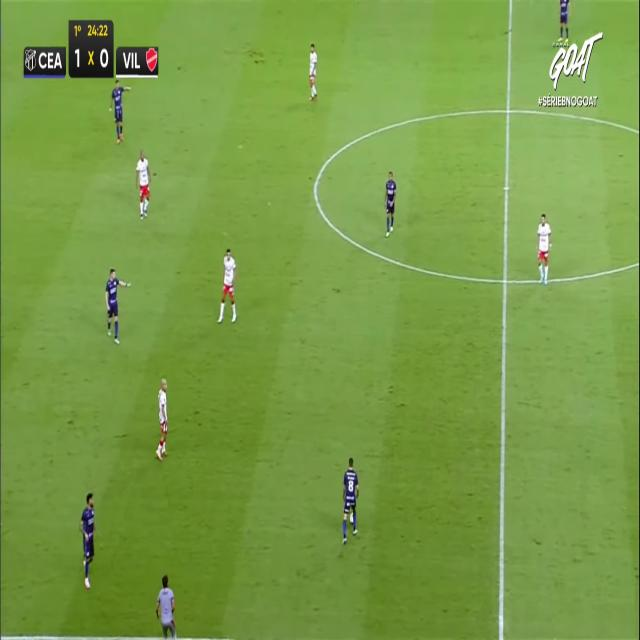ball: (350, 513, 355, 523)
player: (105, 267, 131, 343), (108, 79, 132, 144), (217, 247, 237, 324), (80, 493, 96, 586), (343, 457, 360, 540), (136, 149, 152, 218), (537, 211, 552, 284), (156, 378, 168, 461), (385, 169, 396, 236), (554, 0, 570, 46), (308, 42, 317, 100)
